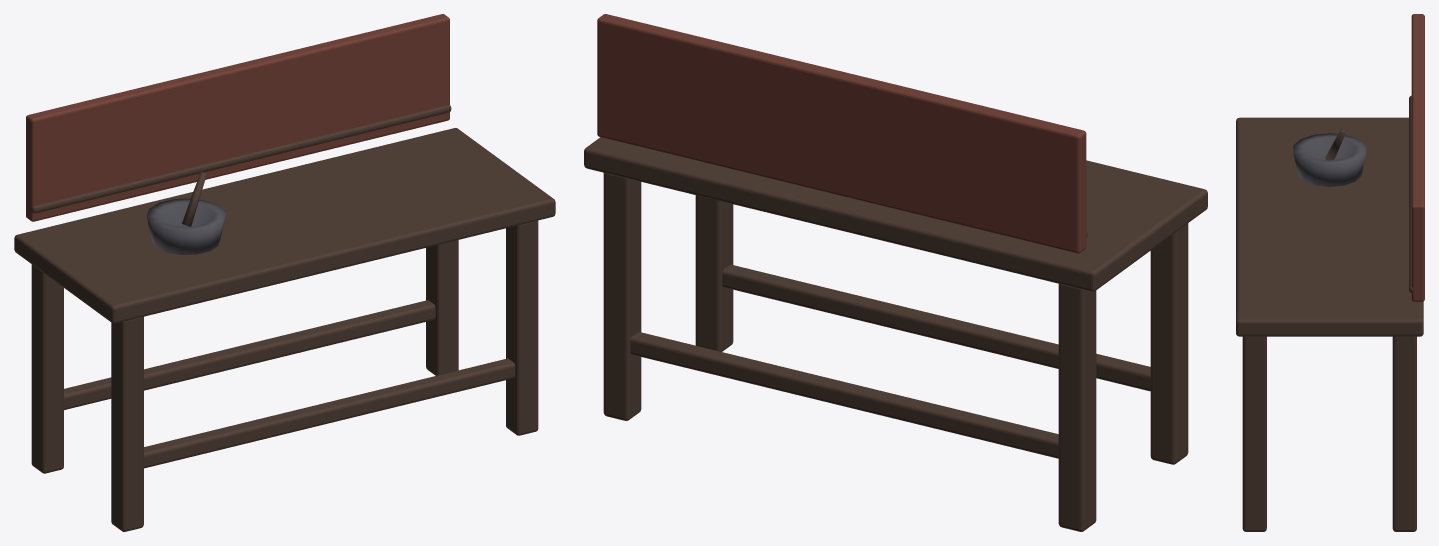
Rendered from lab_bench_grinding_bench.glb.
3 renders of one model, left to right at view 1: azimuth 30°, elevation 25°; view 2: azimuth 150°, elevation 25°; view 3: azimuth 270°, elevation 25°, orthographic. The views are drawn at different scales.
Visible parts, largest first — view 1: GD_lab_bench_grinding_bench__m0, GD_lab_bench_grinding_bench__m2, GD_lab_bench_grinding_bench__m1; view 2: GD_lab_bench_grinding_bench__m0, GD_lab_bench_grinding_bench__m2; view 3: GD_lab_bench_grinding_bench__m0, GD_lab_bench_grinding_bench__m2, GD_lab_bench_grinding_bench__m1.
Part boxes in pixels (x1,y1,x2,y2): GD_lab_bench_grinding_bench__m0: (14, 105, 555, 531); GD_lab_bench_grinding_bench__m2: (26, 14, 449, 221); GD_lab_bench_grinding_bench__m1: (146, 198, 225, 254); GD_lab_bench_grinding_bench__m0: (584, 137, 1207, 531); GD_lab_bench_grinding_bench__m2: (597, 14, 1086, 253); GD_lab_bench_grinding_bench__m0: (1236, 95, 1423, 531); GD_lab_bench_grinding_bench__m2: (1411, 14, 1424, 301); GD_lab_bench_grinding_bench__m1: (1293, 133, 1366, 186).
Size of the model in its own units: 1.8 by 1.35 by 0.705.
